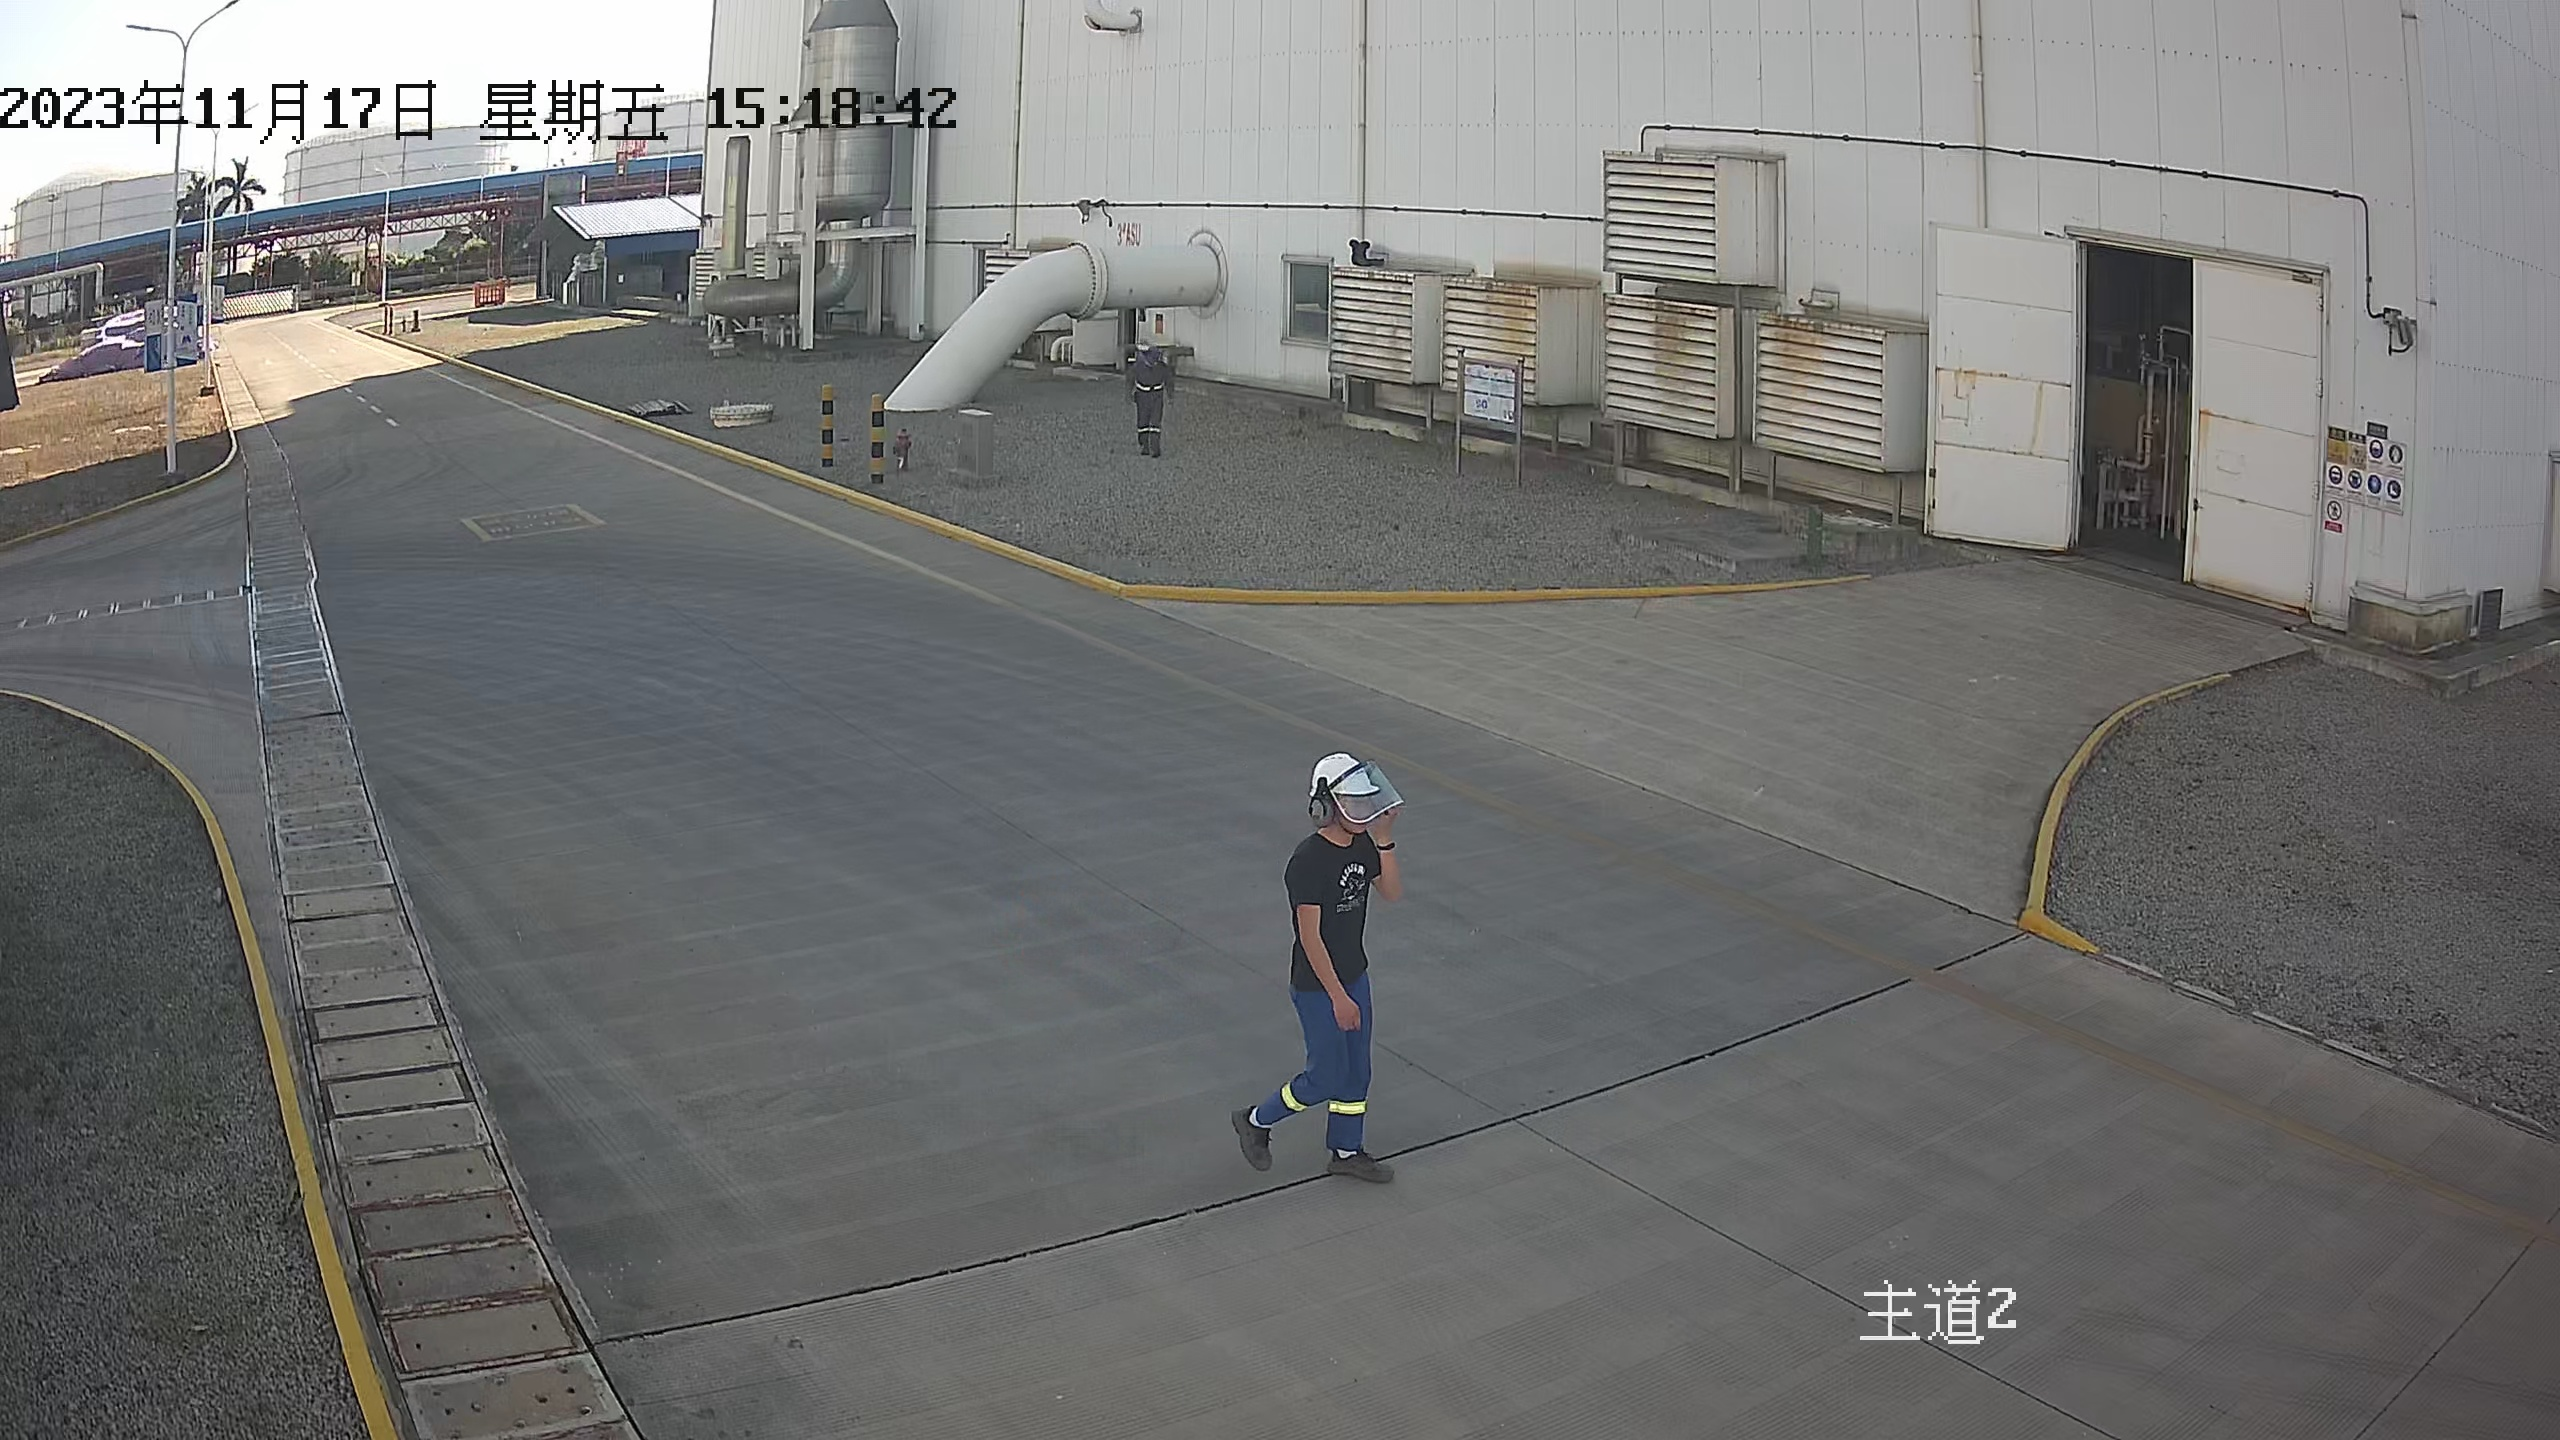Body_without_uniform: (1222, 836, 1459, 1204)
Head_with_Helmet: (1269, 740, 1431, 848), (1135, 335, 1172, 368)
Uniform: (1122, 359, 1187, 461)
